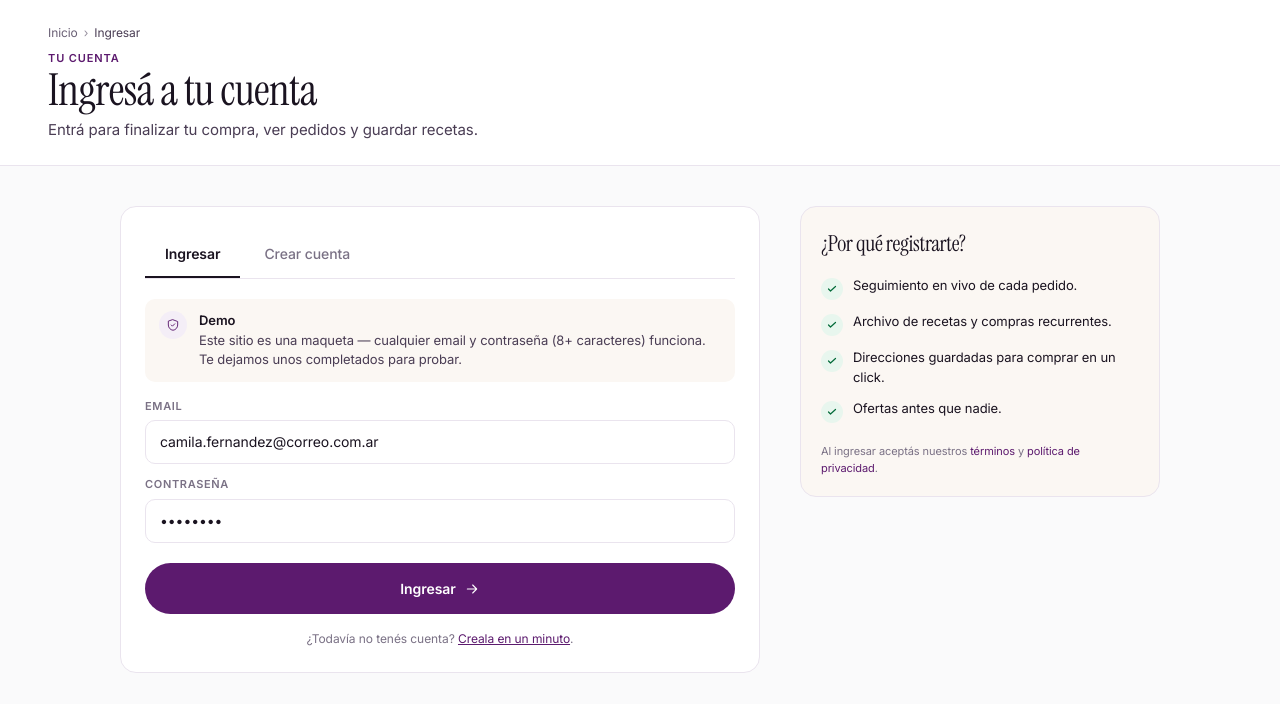
Test: LoginView › shows an inline error and does not redirect when email is empty
This screenshot has width=1280, height=704.
Clear the field labelled "Email" at x=440, y=442, box 145,420 -> 735,464
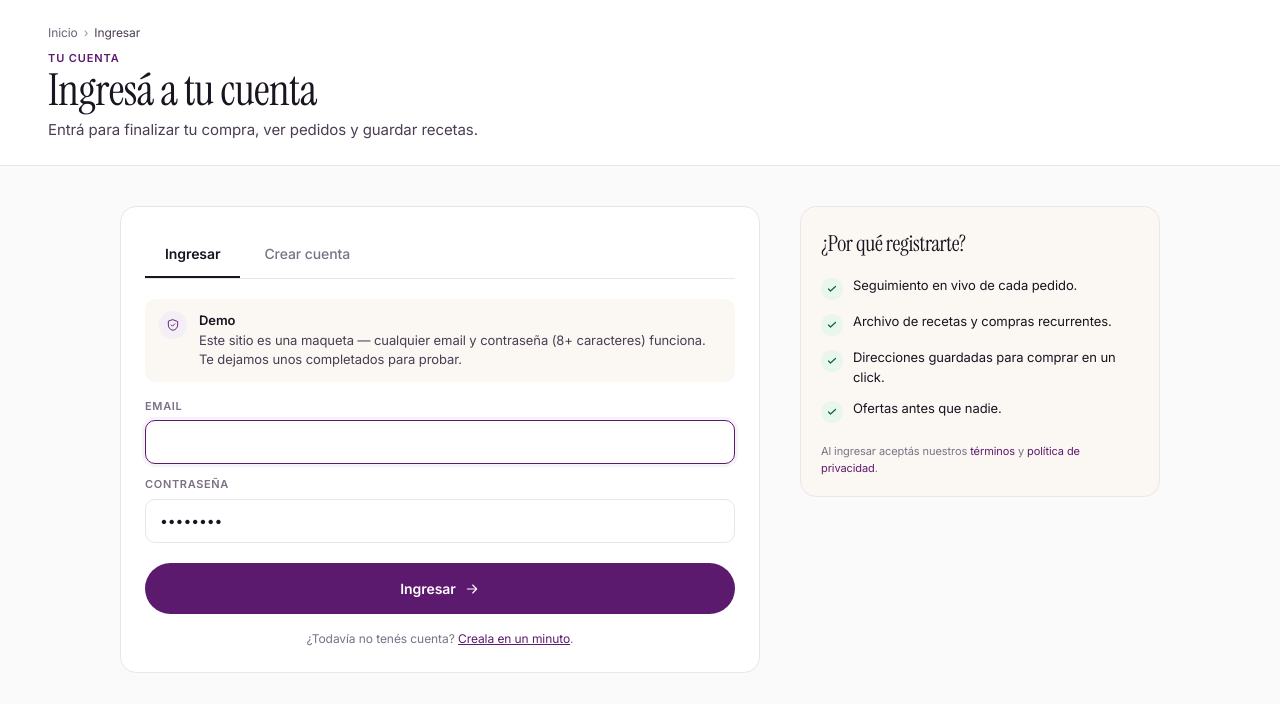
Click the button "Ingresar" at x=440, y=589, box 145,563 -> 735,614
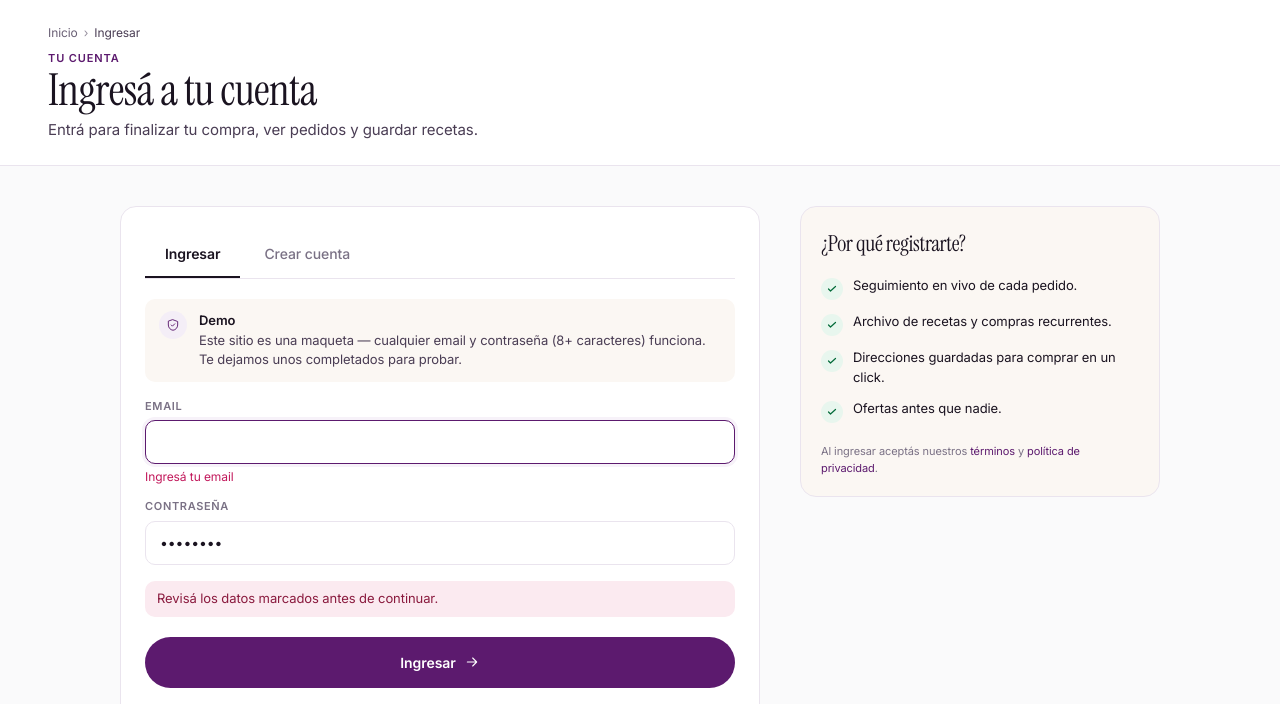
Expected: the text "Ingresá tu email" is shown, 145,469 -> 234,484
